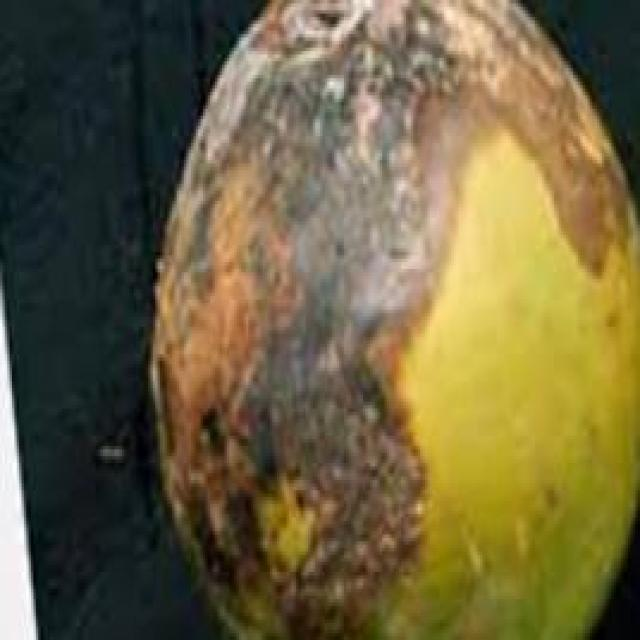damaged: (150, 0, 638, 637)
